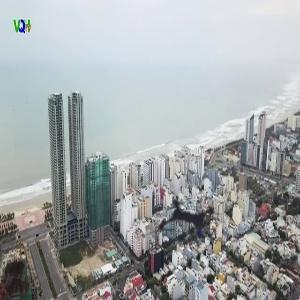drone: (123, 159, 250, 286)
